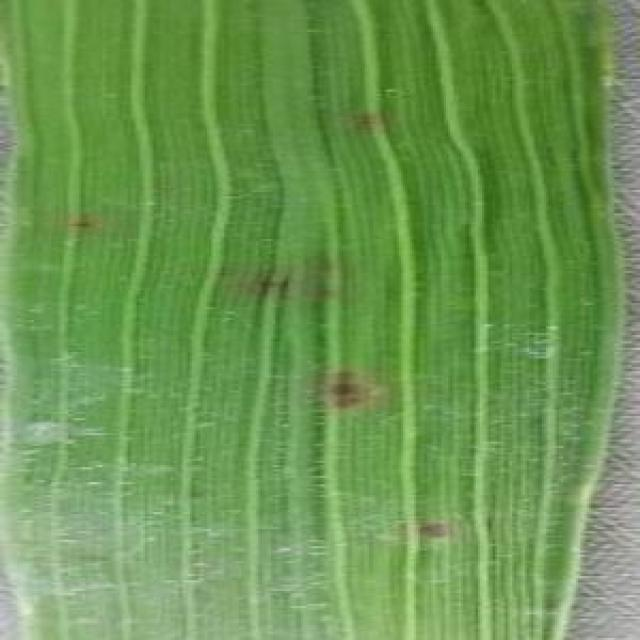Brown_Spot: (313, 348, 386, 417), (414, 506, 466, 546), (346, 104, 398, 138), (66, 210, 92, 242)
